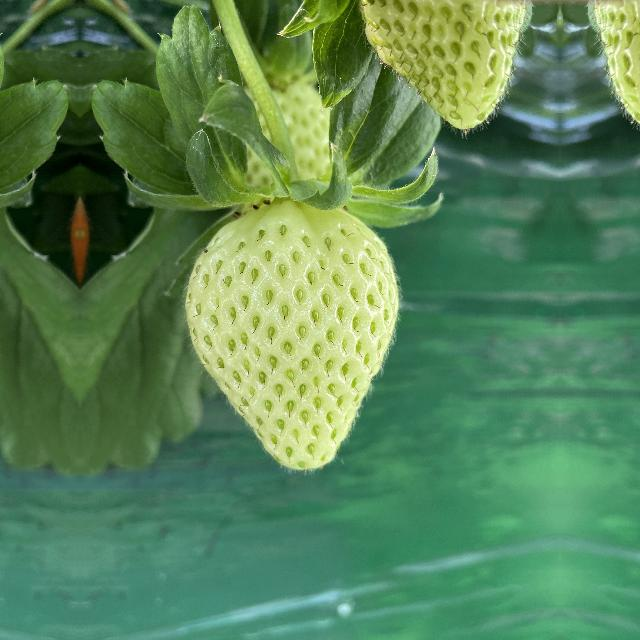Health_25: (180, 193, 402, 482)
